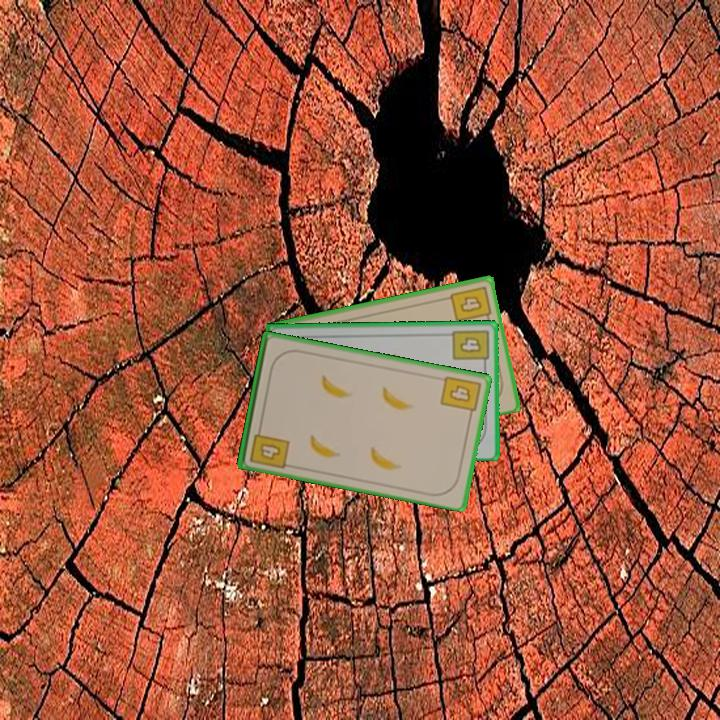4b: (437, 372, 483, 421), (246, 422, 292, 471), (447, 282, 494, 325), (449, 326, 491, 369)
